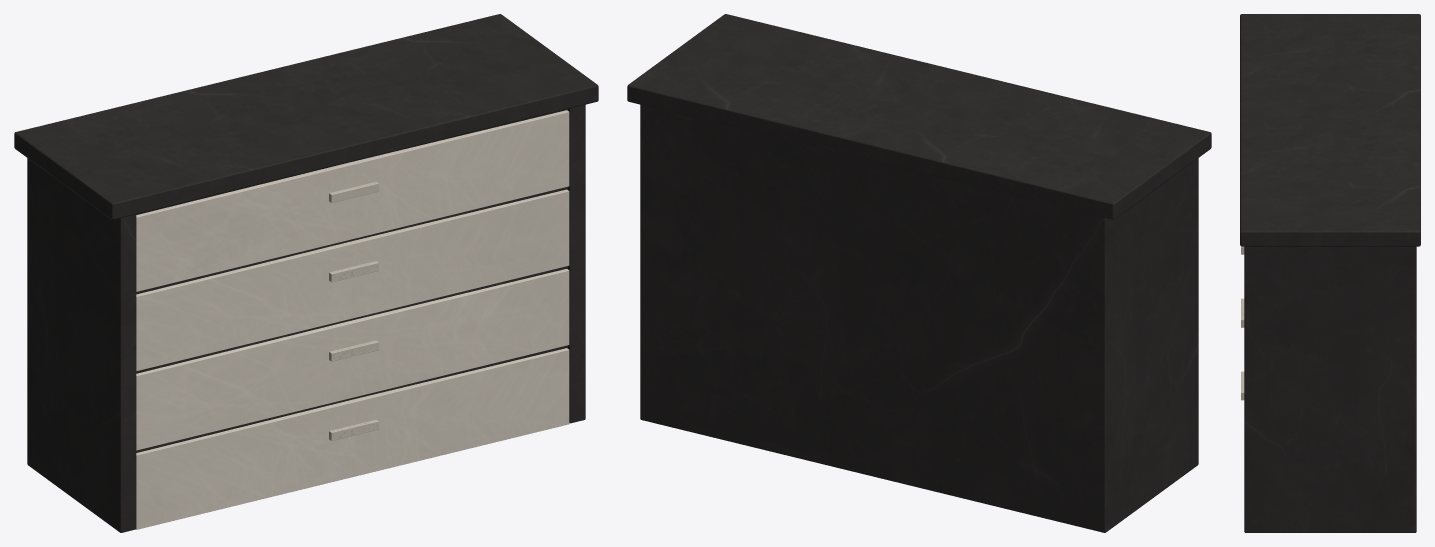
Rendered from Drawer Closed.fbx.
3 renders of one model, left to right at view 1: azimuth 30°, elevation 25°; view 2: azimuth 150°, elevation 25°; view 3: azimuth 270°, elevation 25°, orthographic. The views are drawn at different scales.
Parts seen in each view (by area): view 1: Drawer, Drawer.003, Drawer.002, Drawer.004, Drawer.001; view 2: Drawer; view 3: Drawer.
Part boxes in pixels (x1,y1,x2,y2): Drawer: [14, 14, 598, 532]; Drawer.003: [136, 269, 569, 450]; Drawer.002: [136, 189, 569, 371]; Drawer.004: [136, 348, 569, 529]; Drawer.001: [136, 110, 569, 291]; Drawer: [627, 14, 1211, 532]; Drawer: [1240, 14, 1420, 532].
Bounding box in the file's own units: 2.25 × 0.7875 × 1.48.
